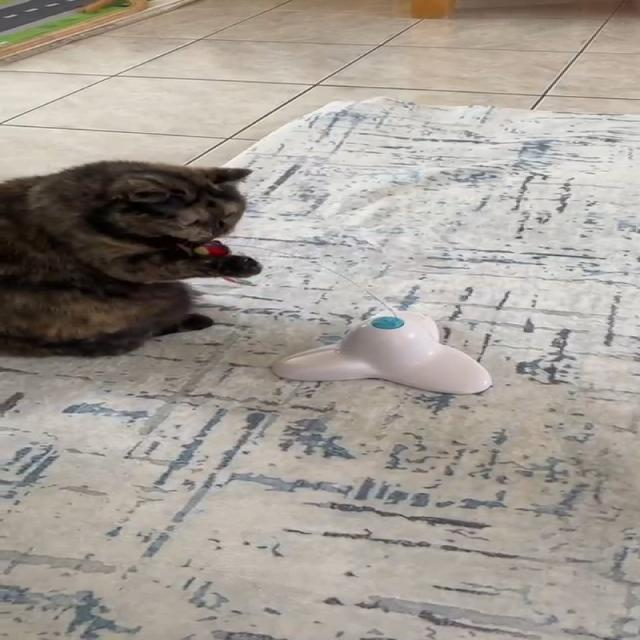authorized: (0, 158, 261, 358)
